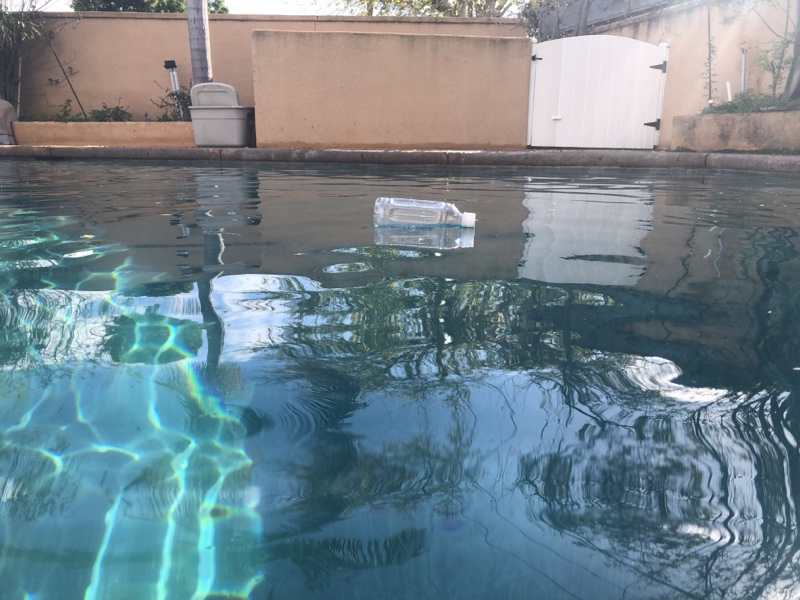Plastic Bottle: (371, 191, 478, 234)
